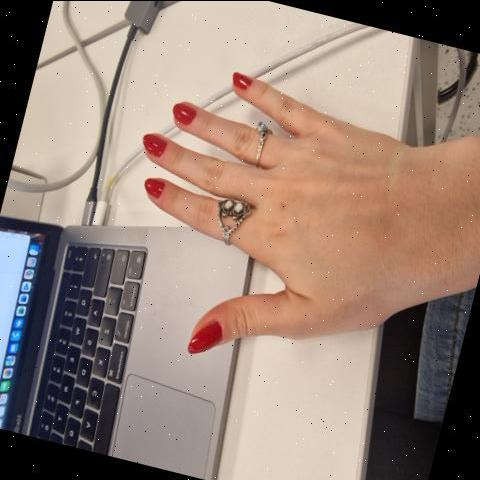Hands: (126, 41, 452, 401)
